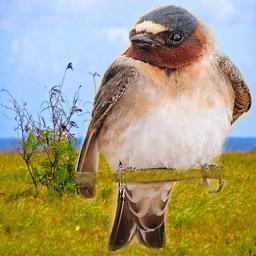Swallow: (75, 3, 253, 253)
